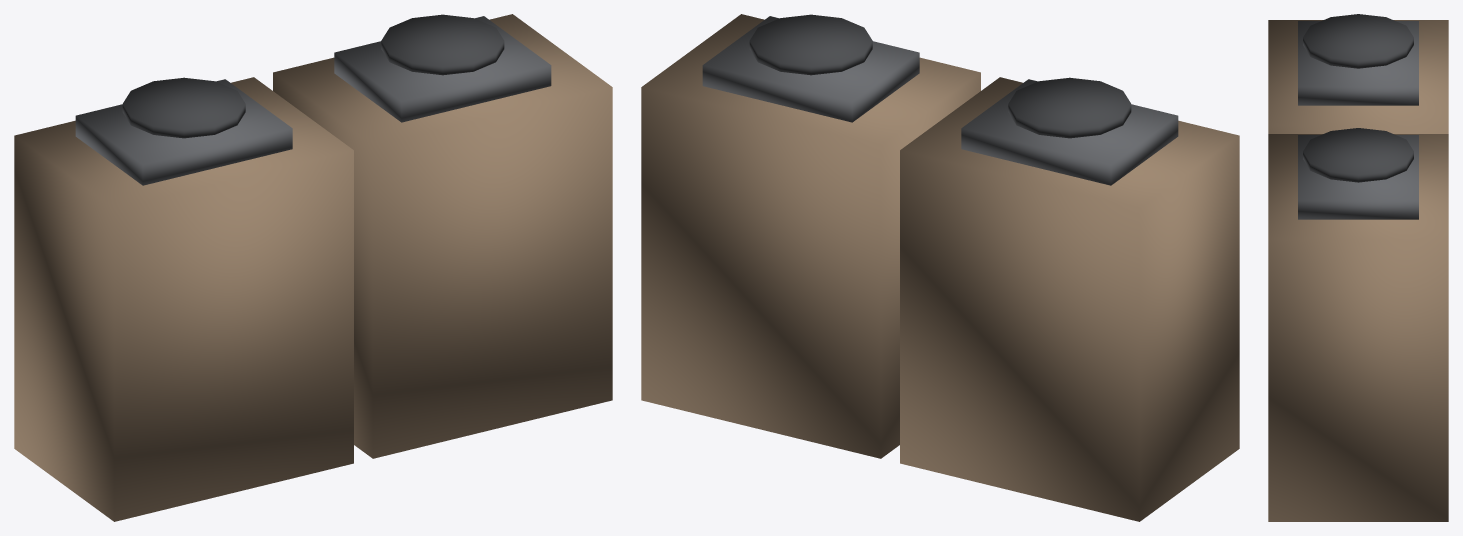
Rendered from record_store_listening_station__cluster.glb.
3 views of the same model, side by side, from view 1: azimuth 30°, elevation 25°; view 2: azimuth 150°, elevation 25°; view 3: azimuth 270°, elevation 25° (orthographic). The views are drawn at different scales.
Parts seen in each view (by area): view 1: world; view 2: world; view 3: world.
Part boxes in pixels (<box>): world: <box>14,14,612,521</box>; world: <box>641,14,1239,521</box>; world: <box>1268,14,1448,521</box>.
Bounding box in the file's own units: 1.5 × 1.01 × 0.52.
